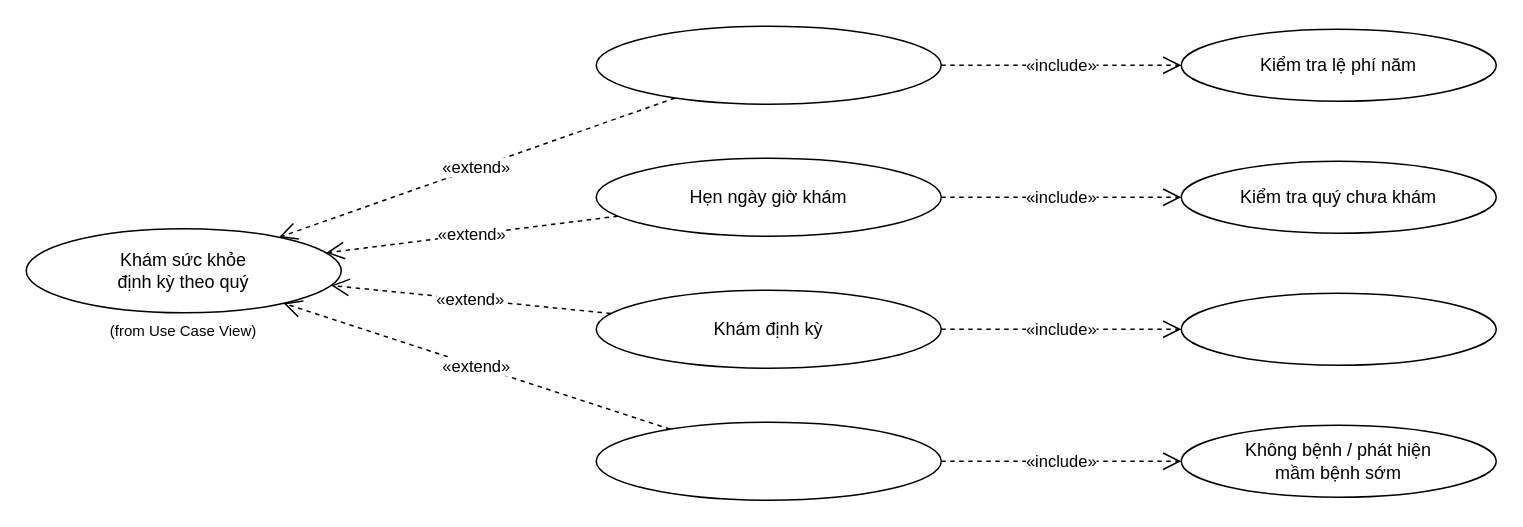
The diagram is 1523 pixels wide and 527 high, and some of its shapes have lost their labels. Each missing label, with the centre of its shape:
"Ghi nhận kết quả" goes at pixel 768 460.
"Kiểm tra hồ sơ còn hiệu lực" goes at pixel 768 64.
"Lập phiếu khám loại định kỳ" goes at pixel 1338 328.
